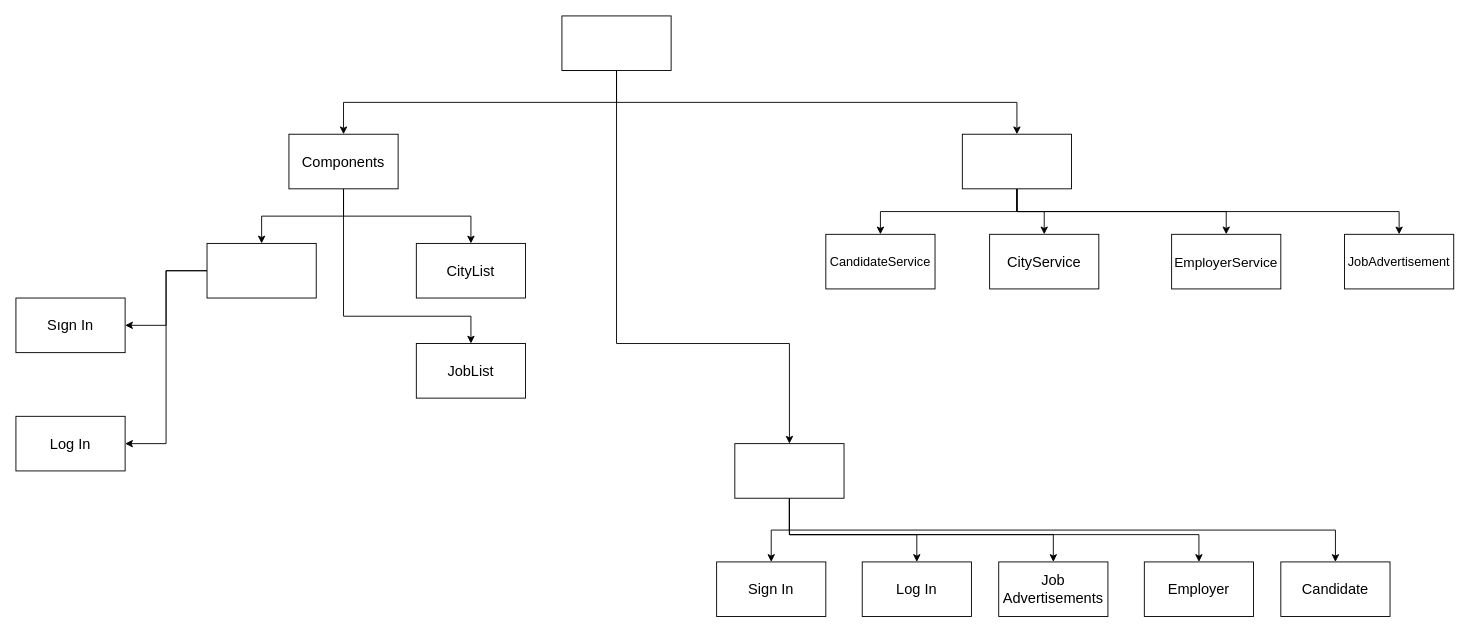
Image size: 1470x632. Some labels were removed from this diagram. Here are the shapes that lost their labels. From the top down, the centre of each, then its label:
point 616,43: App
point 1016,161: Services
point 261,270: Navi
point 789,470: Pages
